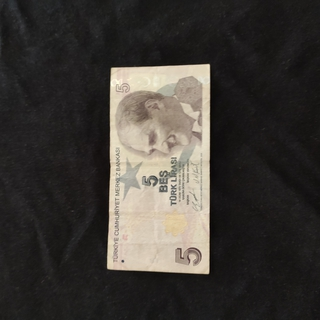5TLFront: (105, 63, 211, 275)
